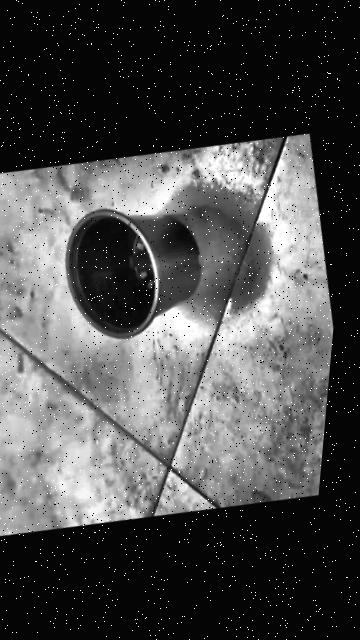pot: (49, 186, 219, 355)
